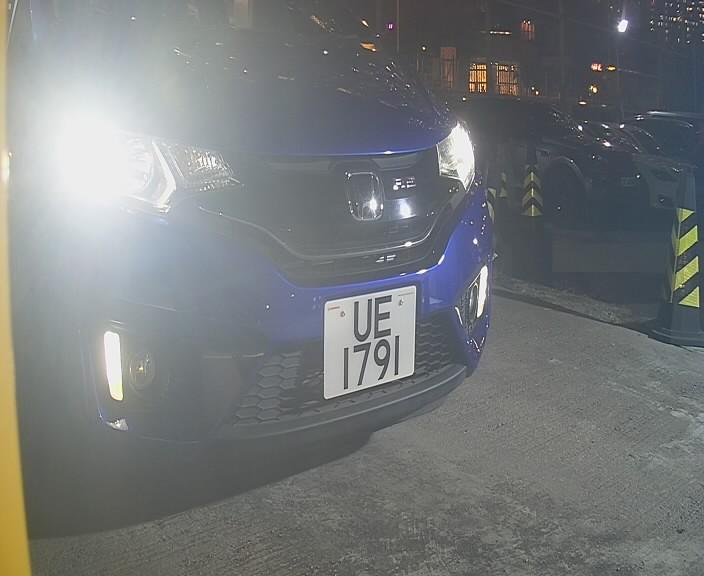License Plate: (312, 276, 425, 407)
